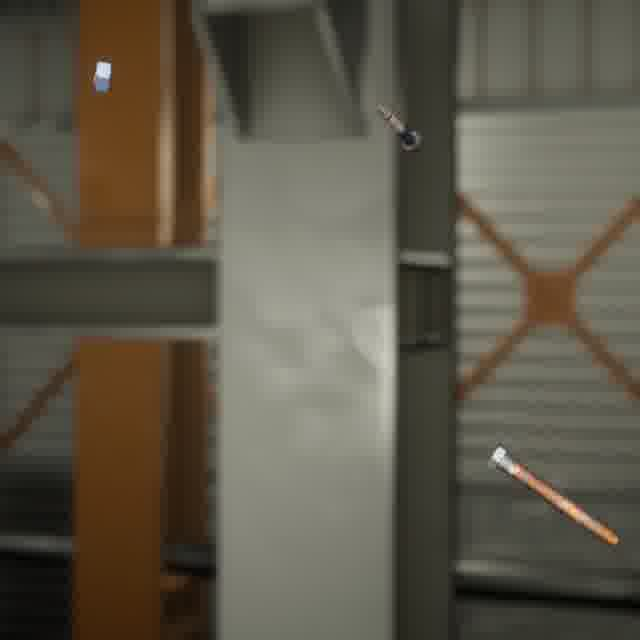bolt: (481, 438, 624, 551), (372, 100, 428, 157)
nut: (88, 57, 116, 97)
